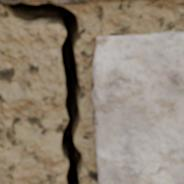brick: (93, 32, 183, 183), (51, 0, 91, 3), (1, 0, 37, 2)
crack: (0, 1, 85, 183)
